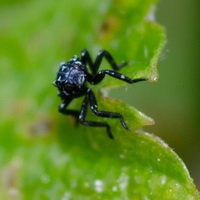insect: (54, 49, 147, 138)
